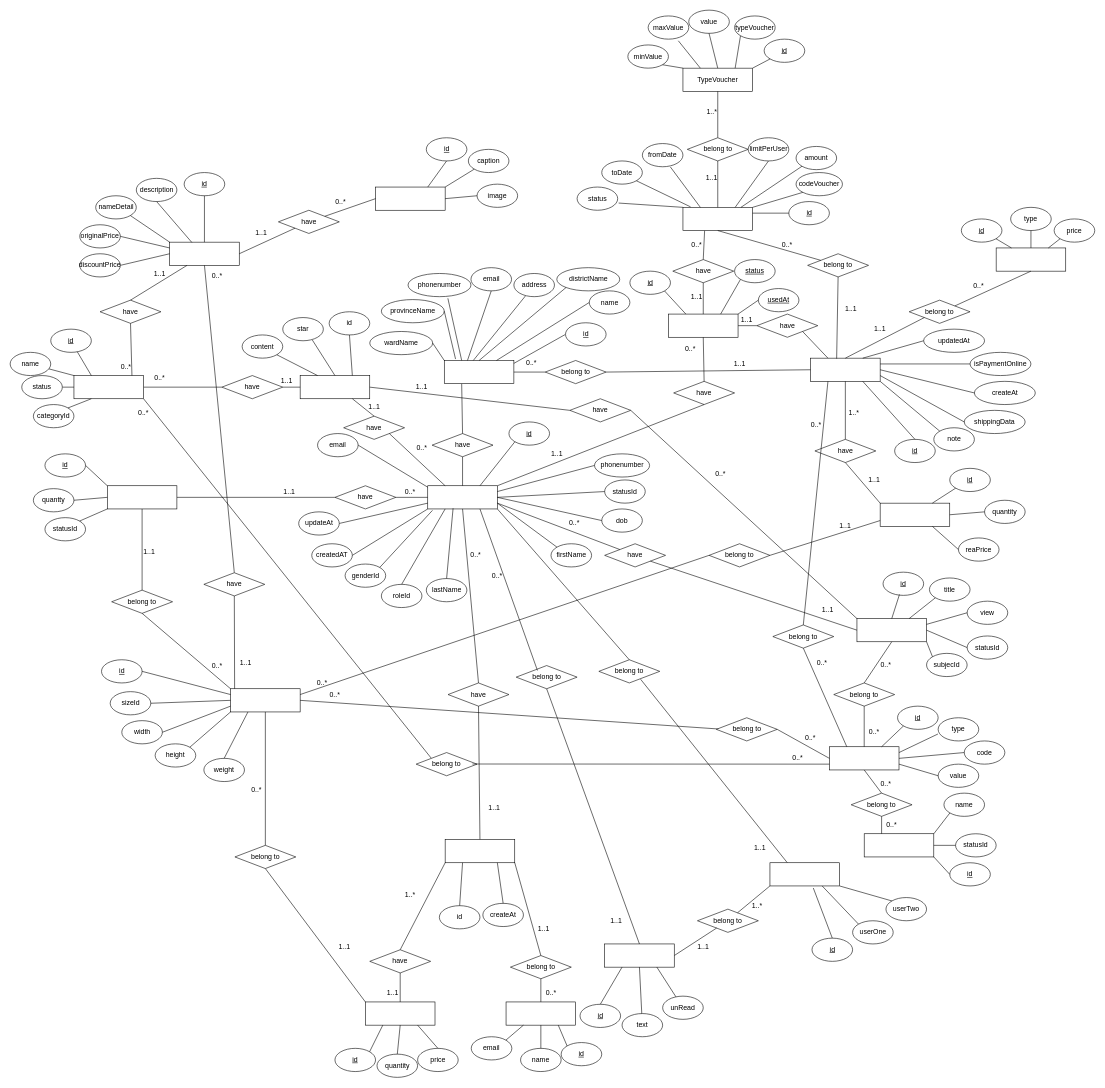
Some shapes in this 1105 by 1088 pixel diagram are drawn without their labels. Here are the shapes that lost their labels. From the top down, the centre of each, then its label:
point 410,198: ProductImage
point 717,219: Voucher
point 204,253: ProductDetail
point 1031,259: TypeShip
point 703,325: VoucherUsed
point 108,387: Product
point 335,387: Comment
point 479,372: AddressUser
point 845,369: Order
point 142,497: ShopCart
point 462,497: User
point 915,514: OrderDetail
point 891,630: Blog
point 265,700: ProductDetailSize
point 864,758: AllCode
point 480,851: Receipt
point 899,845: Banner
point 804,874: RoomMessage
point 639,955: Message
point 400,1013: SupplierDetail
point 540,1013: Supplier
